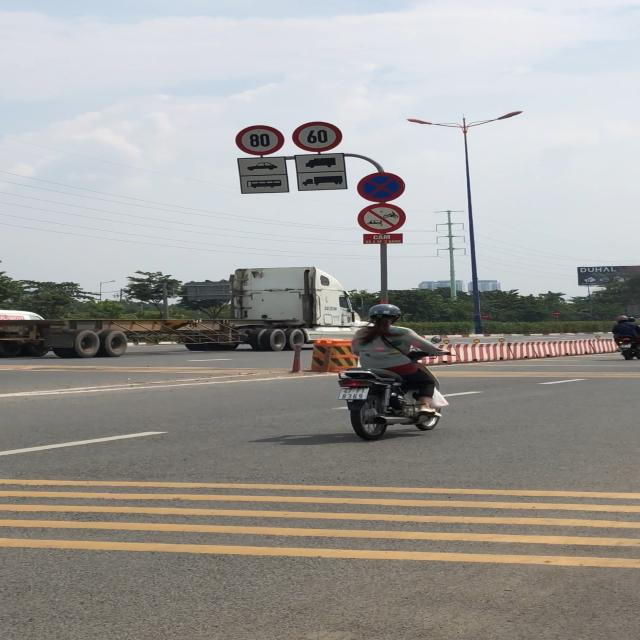Bien bao cam dung xe va do xe: (355, 170, 410, 205)
Bien bao toc do toi da cho phep: (290, 121, 343, 152), (234, 125, 286, 156)
